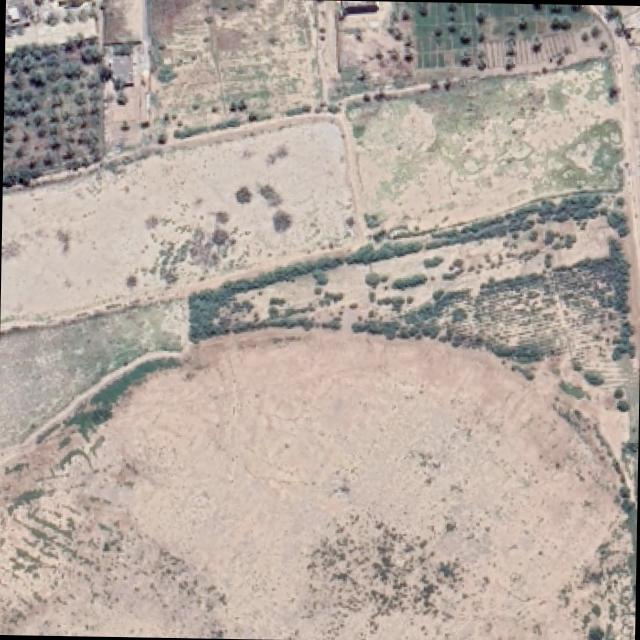artifacts: (326, 1, 416, 95), (5, 0, 98, 55)
vegetation: (184, 262, 354, 342), (362, 100, 474, 202), (3, 494, 96, 580), (597, 236, 640, 370), (577, 125, 628, 183)
